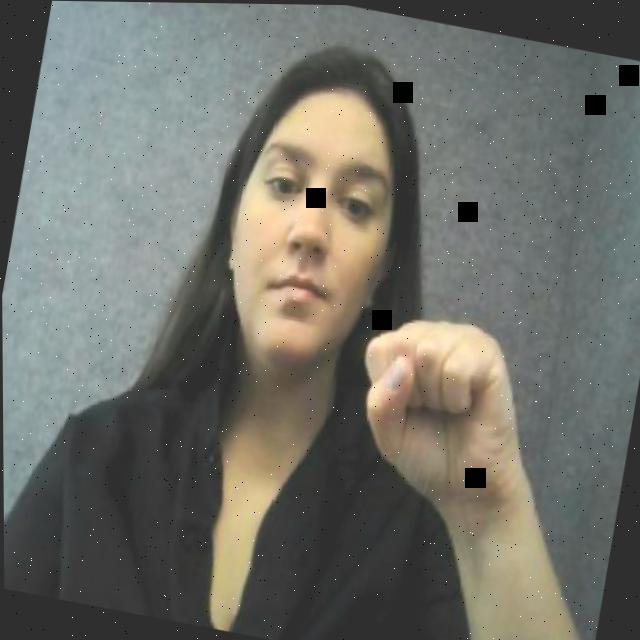Rock: (341, 297, 532, 517)
